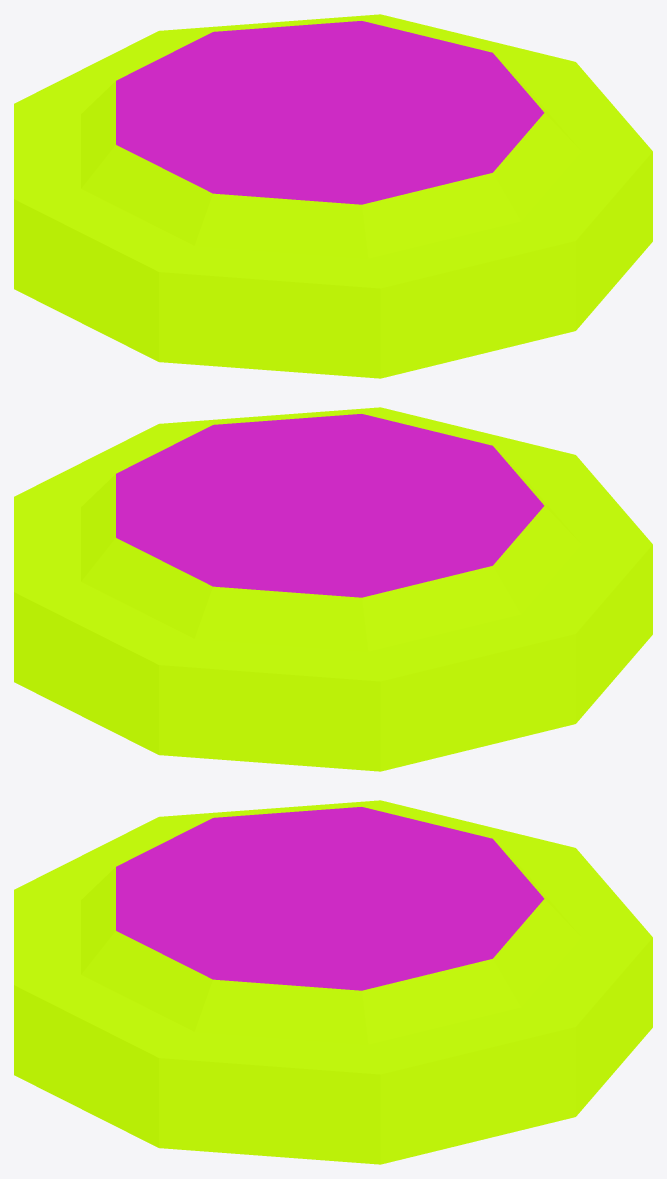
The model's file is button.glb.
The picture shows the model from 3 angles, top to bottom: view 1: azimuth 30°, elevation 25°; view 2: azimuth 150°, elevation 25°; view 3: azimuth 270°, elevation 25°; orthographic projection.
Visible parts, largest first — view 1: Cylinder; view 2: Cylinder; view 3: Cylinder.
Boxes of the visible parts, <box> form: Cylinder: <box>14,14,652,378</box>; Cylinder: <box>14,407,652,771</box>; Cylinder: <box>14,800,652,1164</box>.
Size of what is drawn, in the model's own units: 0.5909 by 0.1294 by 0.5819.
